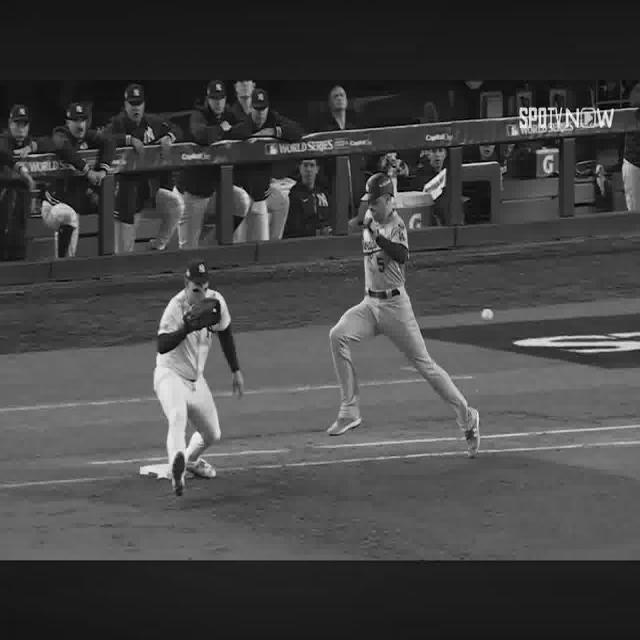base: (139, 463, 169, 478)
baseball: (481, 308, 493, 321)
baseball_glove: (184, 298, 221, 332)
shoe: (328, 410, 361, 435), (465, 409, 480, 458), (186, 457, 216, 478), (172, 452, 185, 497)
